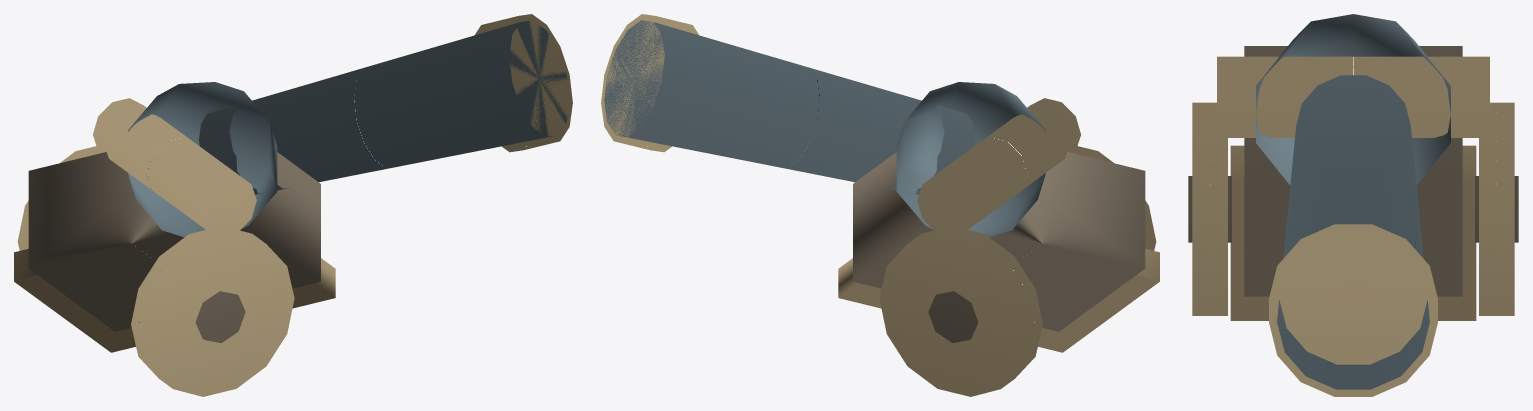
The model's file is cannon.glb.
The picture shows the model from 3 angles, left to right: view 1: azimuth 30°, elevation 25°; view 2: azimuth 150°, elevation 25°; view 3: azimuth 270°, elevation 25°; orthographic projection. The views are drawn at different scales.
Bounding box in the file's own units: 51 × 25.3 × 24.2.
